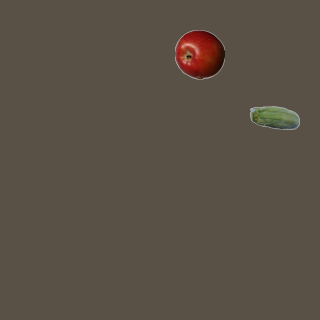Apple Braeburn: (174, 29, 224, 79)
Corn Husk: (249, 94, 299, 144)
